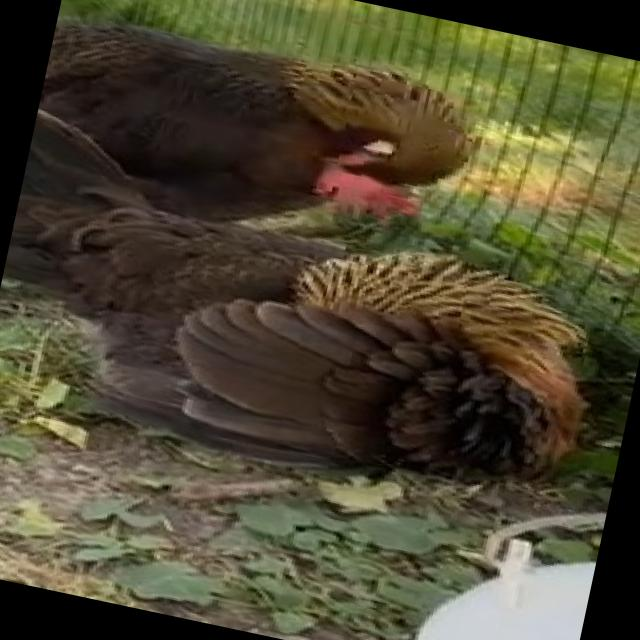self preening: (31, 182, 614, 512), (24, 0, 502, 265)
